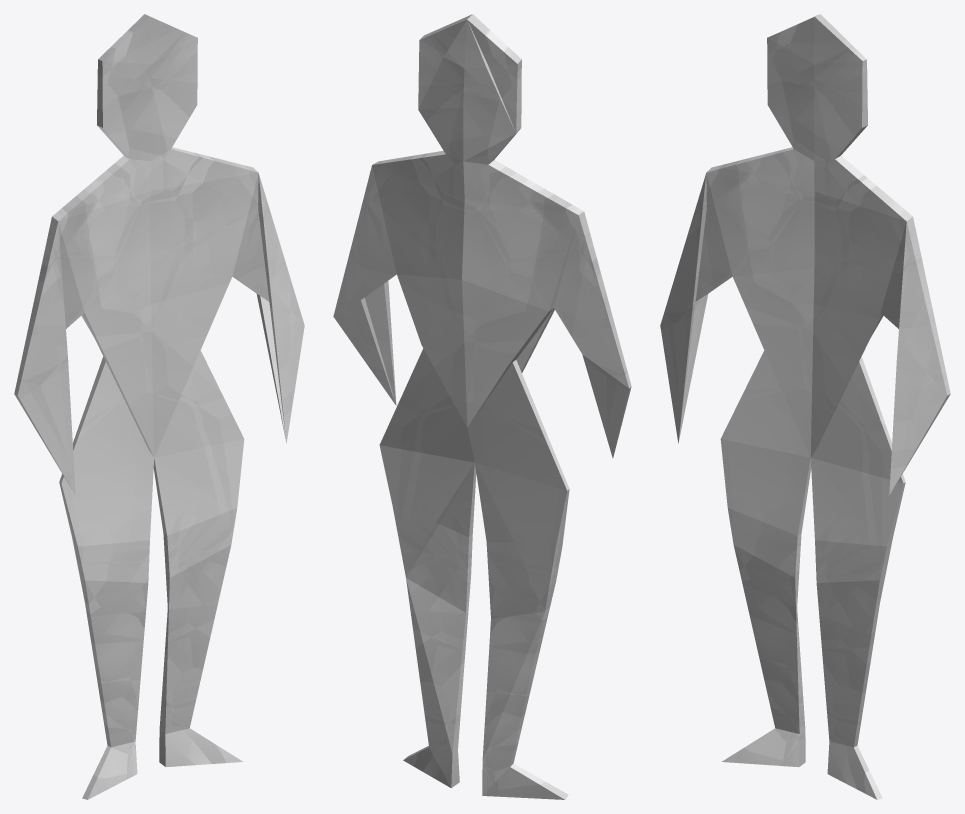
File: Crane_Entry.fbx
The picture shows the model from 3 angles, left to right: view 1: azimuth 30°, elevation 25°; view 2: azimuth 150°, elevation 25°; view 3: azimuth 330°, elevation 25°; orthographic projection. The views are drawn at different scales.
Parts seen in each view (by area): view 1: G_Paperman; view 2: G_Paperman; view 3: G_Paperman.
Part boxes in pixels (x1,y1,x2,y2): G_Paperman: (14, 14, 304, 799); G_Paperman: (333, 14, 631, 799); G_Paperman: (660, 14, 950, 799).
Size of the model in its own units: 80 by 200 by 20.
